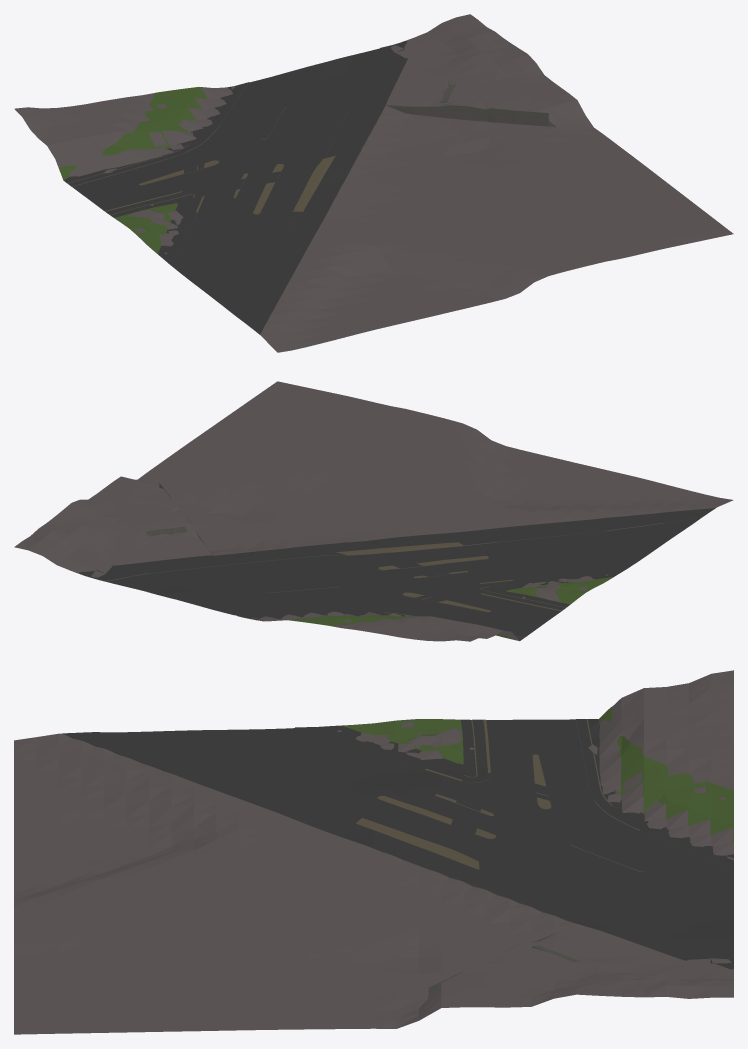
3 views of the same model, one above another, from view 1: azimuth 30°, elevation 25°; view 2: azimuth 150°, elevation 25°; view 3: azimuth 270°, elevation 25° (orthographic). The views are drawn at different scales.
Parts seen in each view (by area): view 1: c_m14_m18; view 2: c_m14_m18; view 3: c_m14_m18.
Boxes of the visible parts, x1,y1,x2,y2 form: c_m14_m18: [14, 14, 733, 352]; c_m14_m18: [14, 381, 733, 641]; c_m14_m18: [14, 670, 733, 1034].
Size of the model in its own units: 128 by 14.24 by 128.
